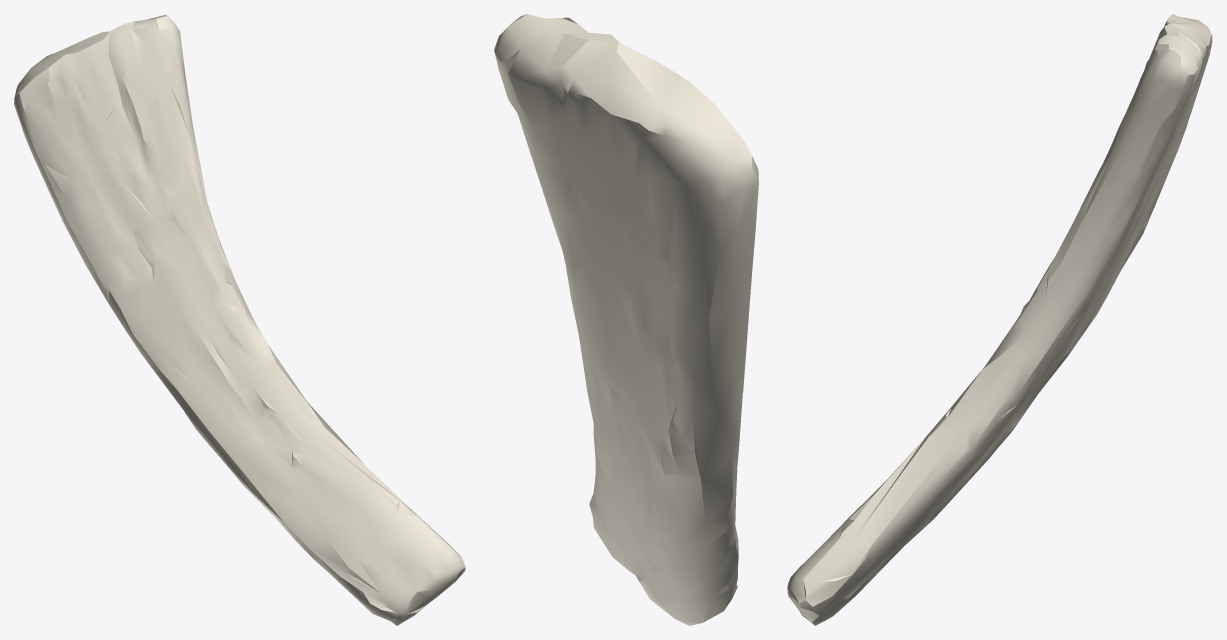
Rendered from fma44069_mm1363.glb.
3 renders of one model, left to right at view 1: azimuth 30°, elevation 25°; view 2: azimuth 150°, elevation 25°; view 3: azimuth 270°, elevation 25°, orthographic. The views are drawn at different scales.
Parts seen in each view (by area): view 1: FMA44069_MM1363; view 2: FMA44069_MM1363; view 3: FMA44069_MM1363.
Boxes of the visible parts, box(x1,y1,x2,y2) form: FMA44069_MM1363: box(14, 14, 465, 625); FMA44069_MM1363: box(494, 14, 758, 625); FMA44069_MM1363: box(787, 14, 1212, 625).
Bounding box in the file's own units: 0.013 × 0.0231 × 0.0165.
